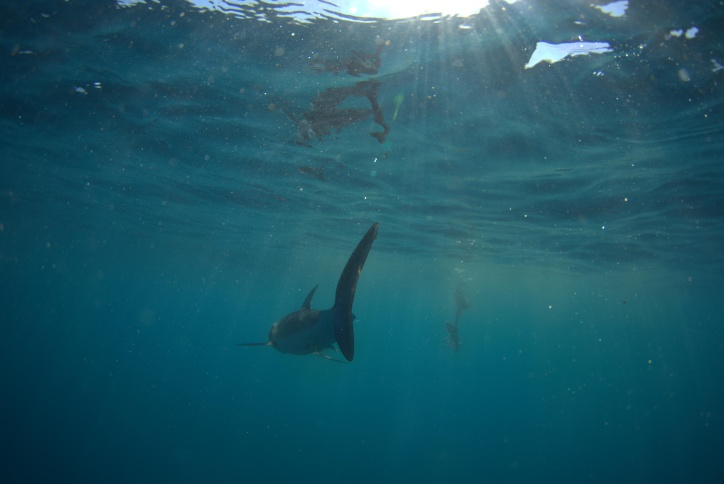Mako: (223, 202, 400, 376)
